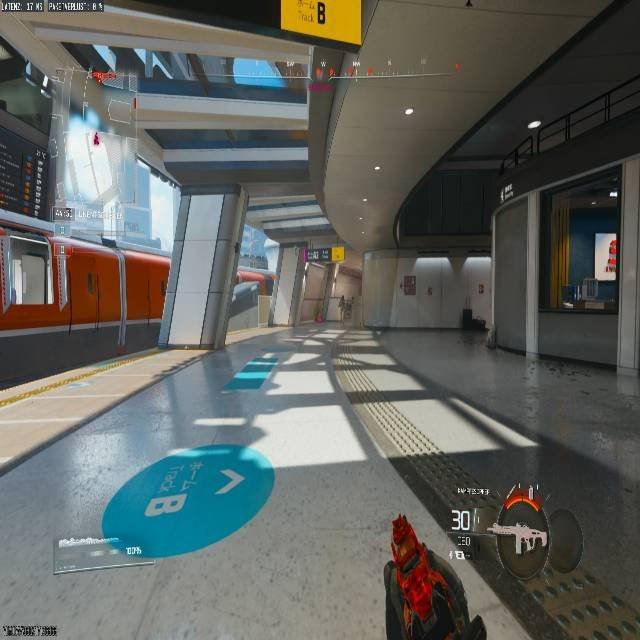player: (457, 303, 485, 355)
